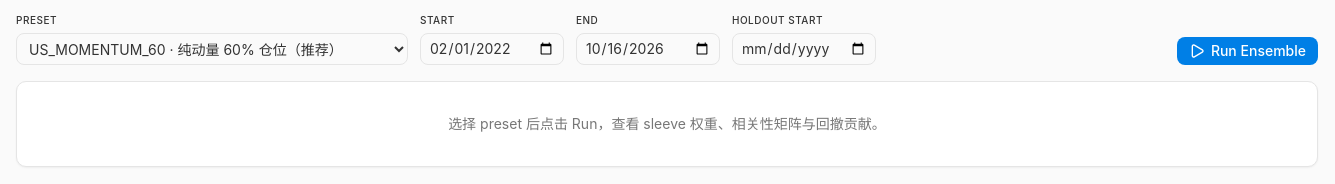
Test: EnsemblePage › 接口失败时展示错误信息而不是空白
Click the button "Run Ensemble": point(1247, 51) [1177,37,1318,65]
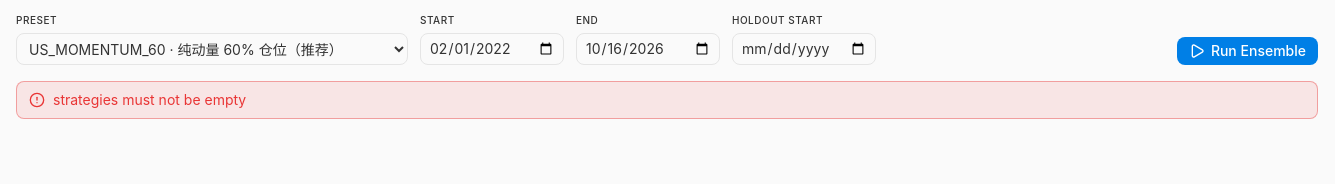
Result: the text "strategies must not be empty" is shown at [53,90,246,110]
